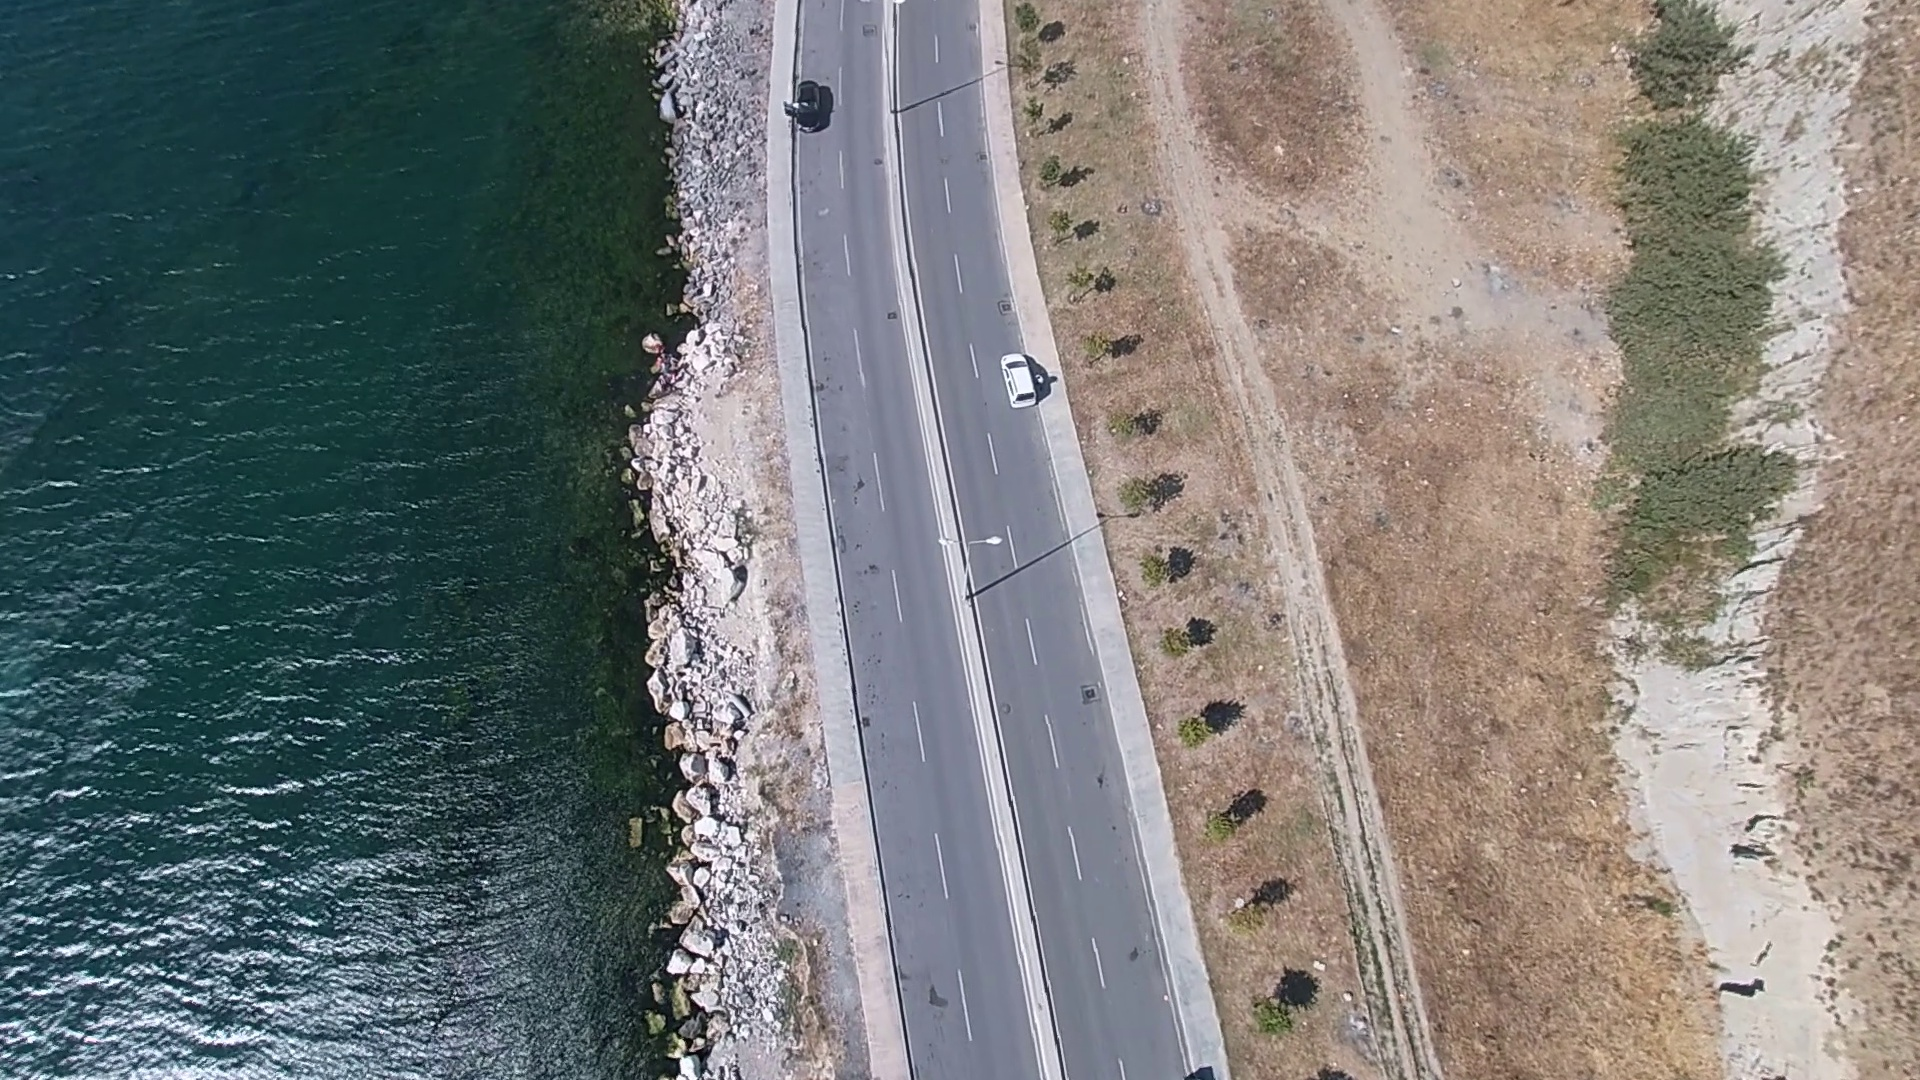arac: (994, 344, 1043, 409), (784, 83, 832, 126)
insan: (1176, 615, 1218, 650)
